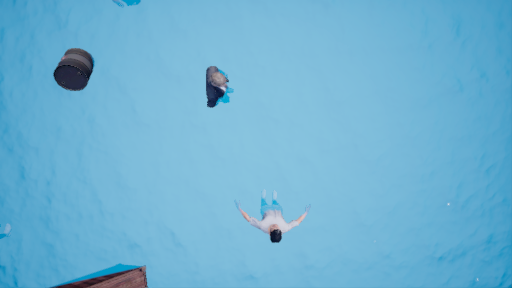person: (230, 190, 316, 249), (197, 60, 236, 122)
